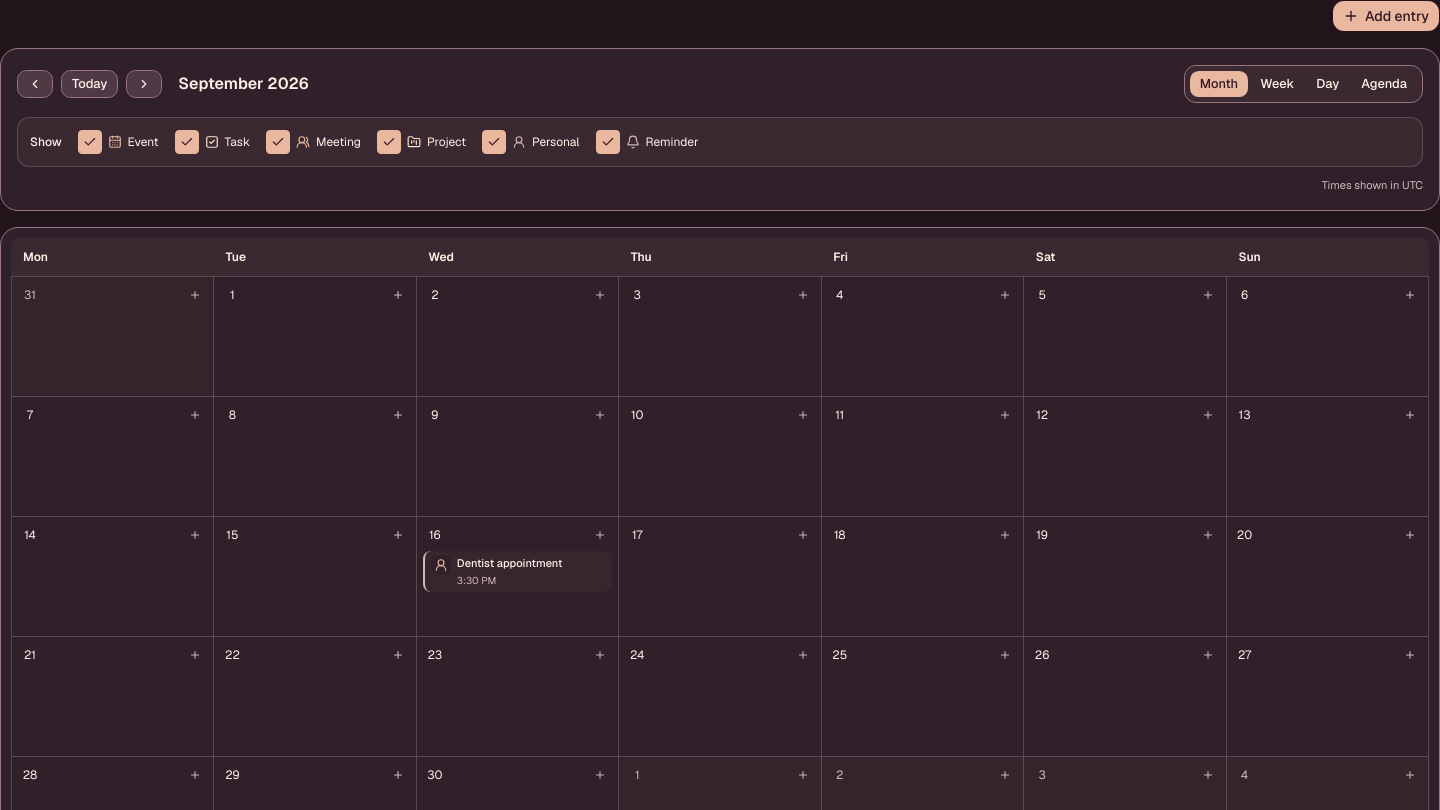
Test: CalendarManager › shows the not-found error when editing an entry deleted elsewhere
The width and height of the screenshot is (1440, 810).
Click the text "Dentist appointment" at (510, 562), box [457,556,562,570]
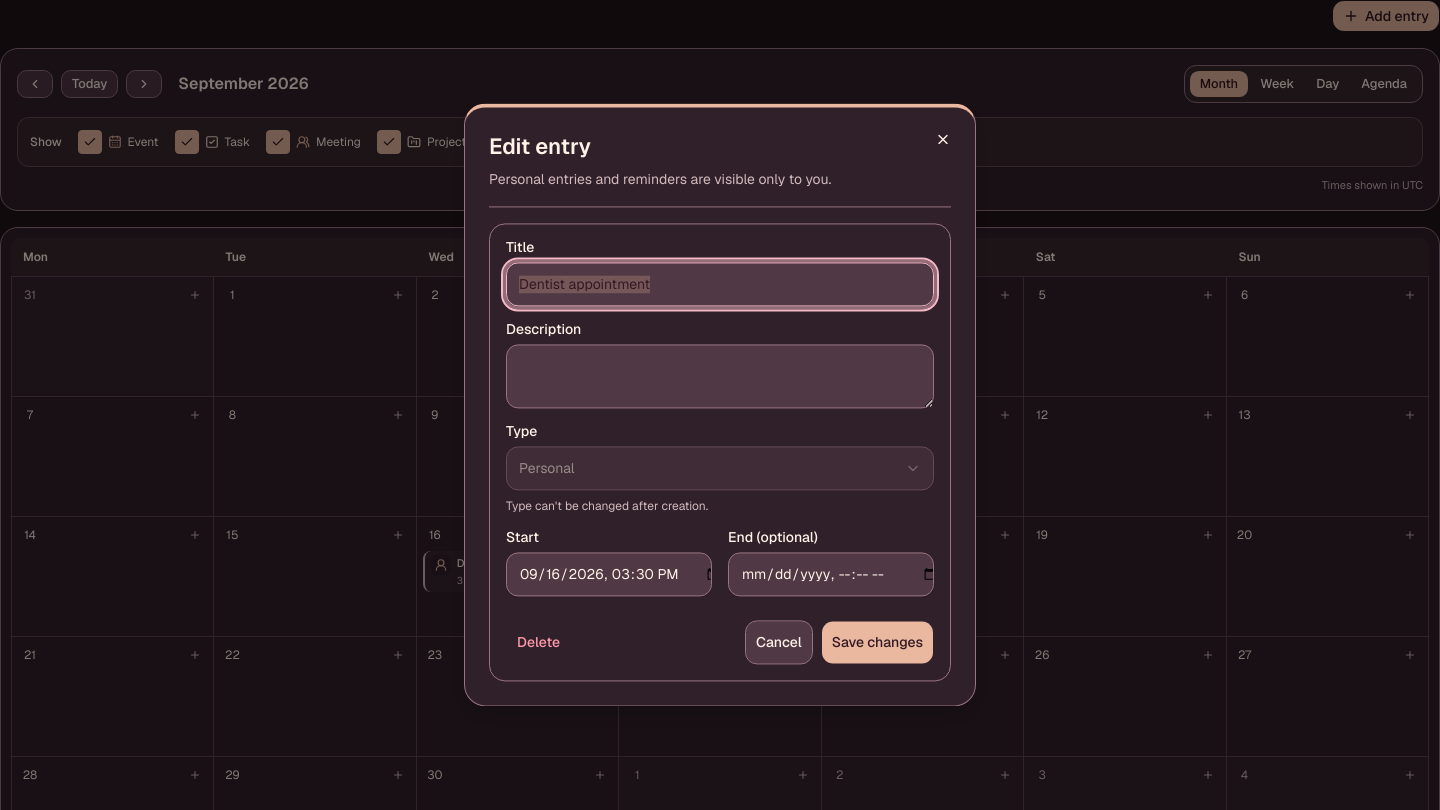
Click the button "Save changes" at (877, 643), box [821,621,934,665]
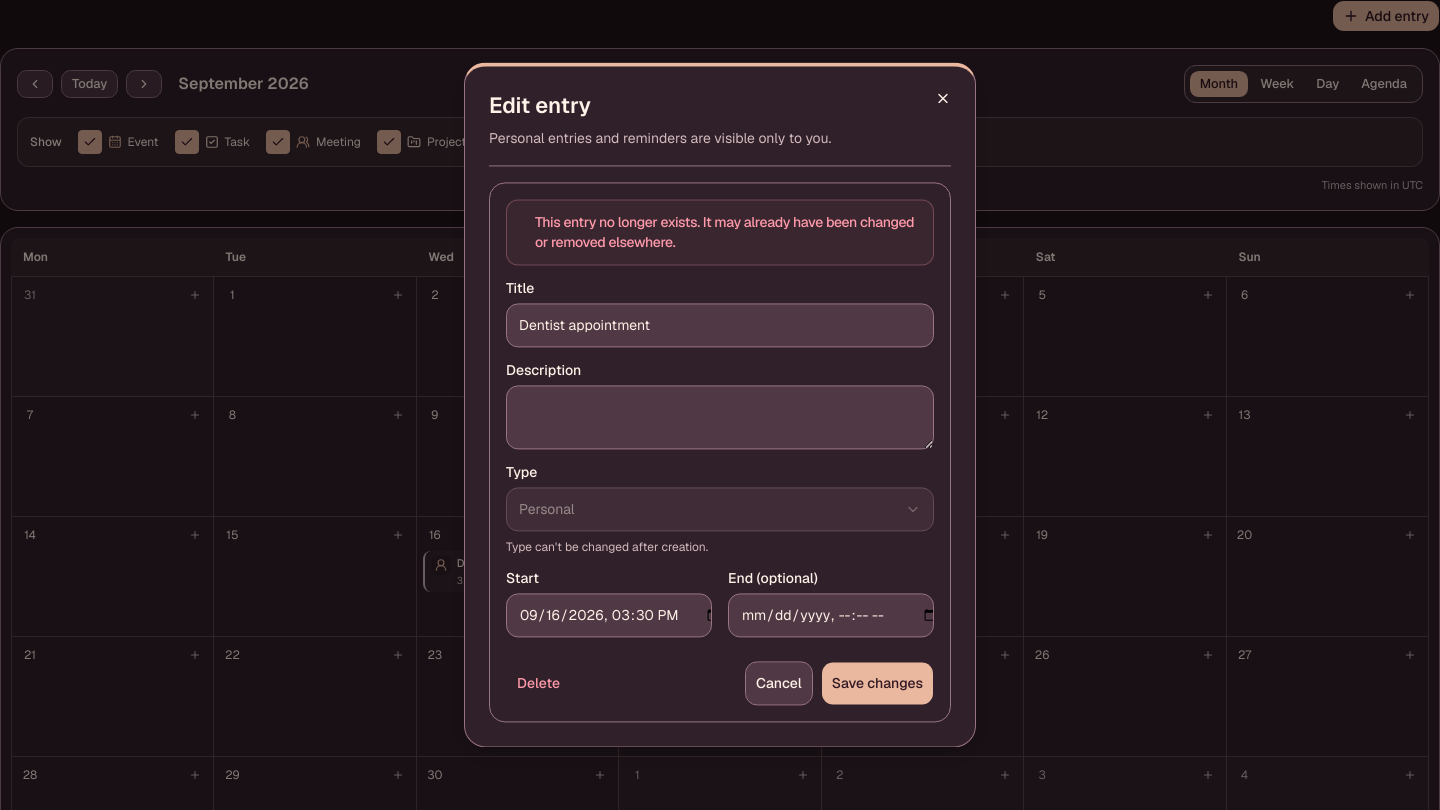
Now the text "This entry no longer exists. It may already have been changed or removed elsewhere." is shown, box [535,214,914,252]
